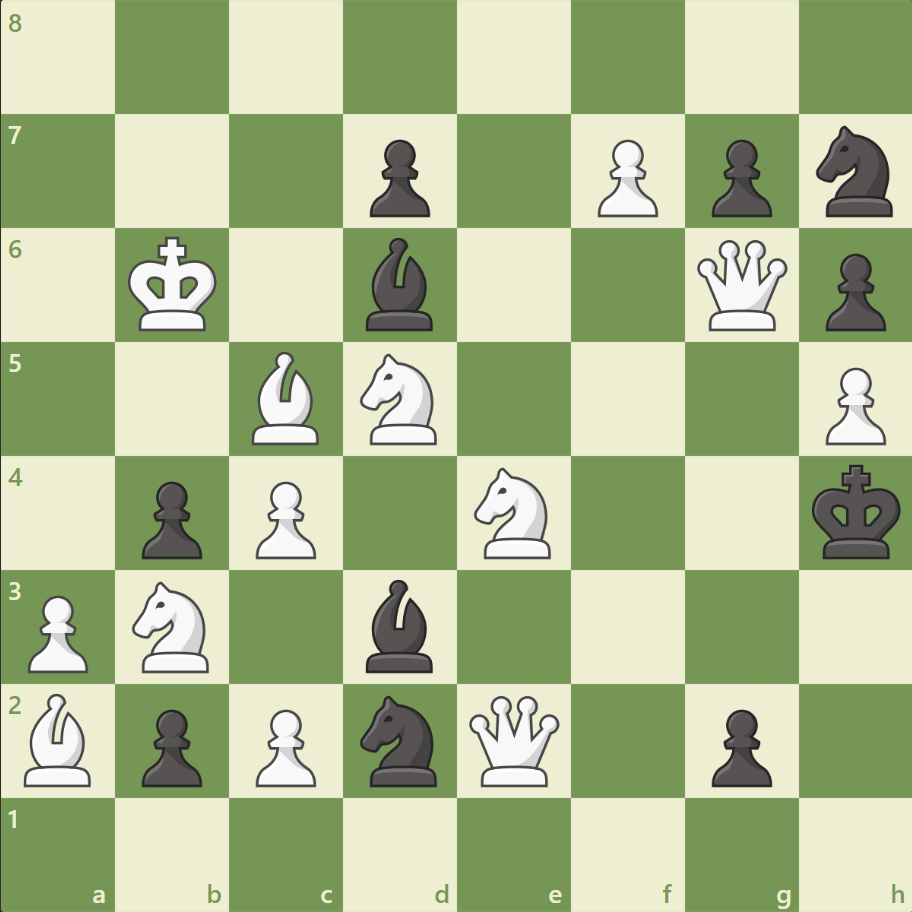B: (17, 687, 101, 790), (244, 347, 328, 449)
K: (124, 231, 224, 339)
N: (351, 348, 449, 450), (124, 575, 222, 677), (465, 461, 562, 564)
P: (247, 473, 322, 564), (20, 586, 95, 677), (247, 700, 322, 791), (588, 132, 662, 223), (815, 359, 889, 450)
Q: (691, 236, 790, 335), (464, 690, 563, 789)
b: (358, 233, 442, 336), (358, 574, 442, 676)
k: (806, 458, 906, 566)
n: (351, 688, 449, 791), (806, 121, 903, 223)
p: (701, 132, 776, 223), (133, 473, 208, 564), (133, 700, 208, 791), (701, 700, 776, 791), (361, 132, 435, 223), (815, 246, 889, 337)
